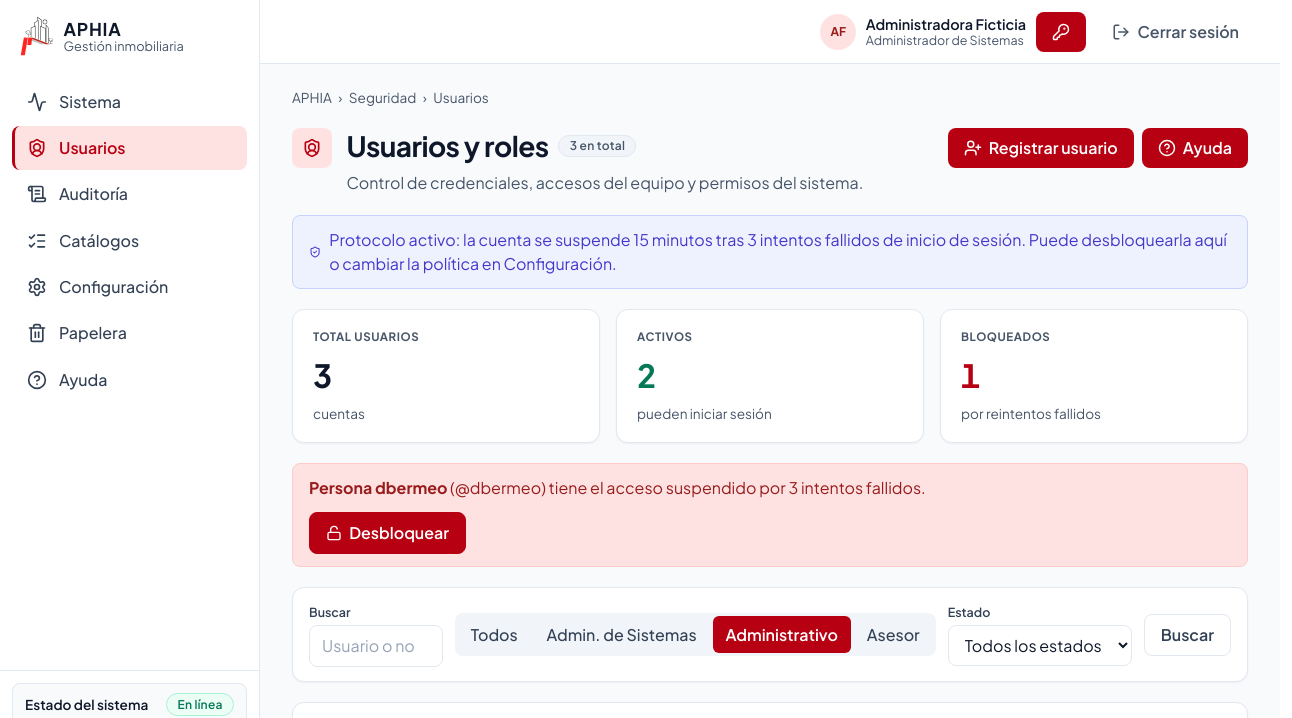
Test: UsuariosPage › lista usuarios, filtra por la URL y desbloquea una cuenta
Expected: the message shows "Persona dbermeo", [309,477,447,498]
Click the button "Desbloquear". click: coordinates (388, 533)
box: [309,512,466,554]
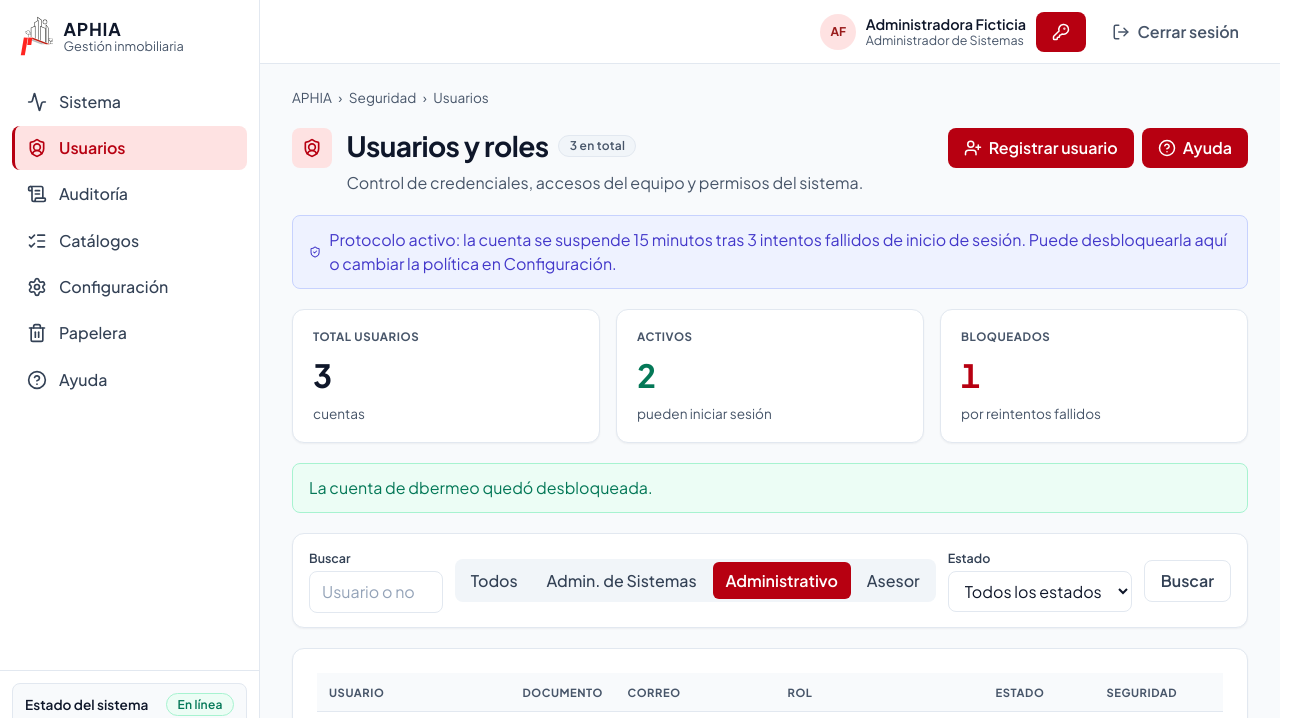
Now the message shows "quedó desbloqueada", box [309,477,653,498]
